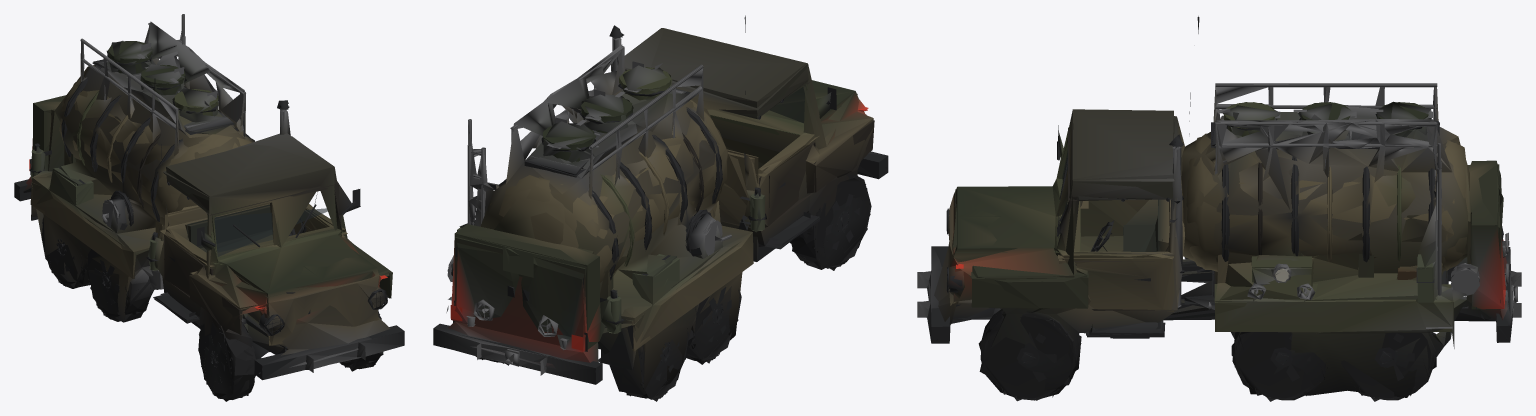
3 views of the same model, side by side, from view 1: azimuth 30°, elevation 25°; view 2: azimuth 150°, elevation 25°; view 3: azimuth 270°, elevation 25° (orthographic). The views are drawn at different scales.
Parts seen in each view (by area): view 1: L1_03_hull_opaque, L2_04_hull_opaque, L0_01_hull_opaque, L0_00_hull_glass, L1_02_hull_glass; view 2: L1_03_hull_opaque, L2_04_hull_opaque, L0_01_hull_opaque, L0_00_hull_glass, L1_02_hull_glass; view 3: L1_03_hull_opaque, L2_04_hull_opaque, L0_01_hull_opaque.
Part boxes in pixels (x1,y1,x2,y2): L1_03_hull_opaque: (15,23,404,399); L2_04_hull_opaque: (23,21,390,401); L0_01_hull_opaque: (14,14,404,398); L0_00_hull_glass: (214,208,327,256); L1_02_hull_glass: (215,208,327,256); L1_03_hull_opaque: (433,15,888,398); L2_04_hull_opaque: (448,17,887,394); L0_01_hull_opaque: (433,25,888,401); L0_00_hull_glass: (770,87,804,122); L1_02_hull_glass: (770,87,804,122); L1_03_hull_opaque: (918,16,1520,400); L2_04_hull_opaque: (928,17,1513,397); L0_01_hull_opaque: (917,83,1521,401).
Size of the model in its own units: 2.58 by 3.96 by 6.95.
